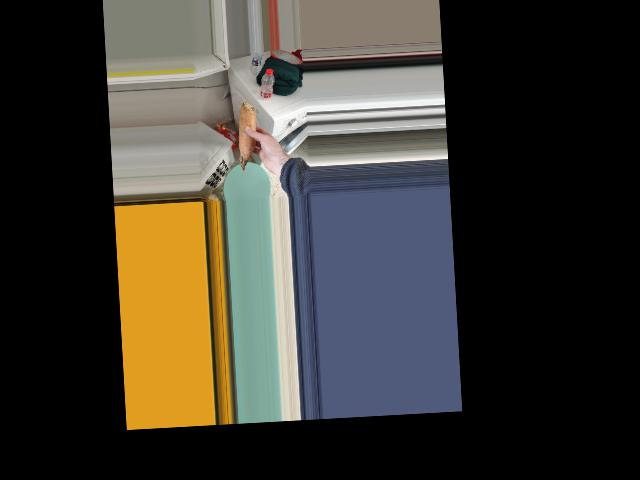sweet_potato: (232, 99, 262, 170)
